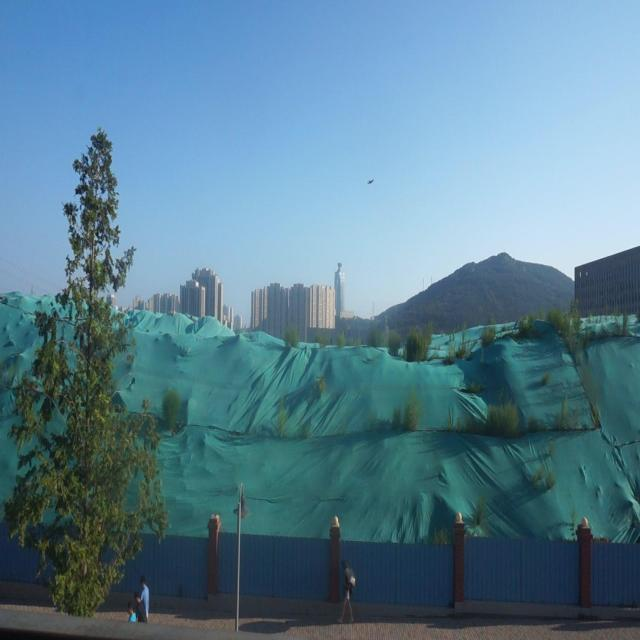drone: (364, 174, 376, 188)
